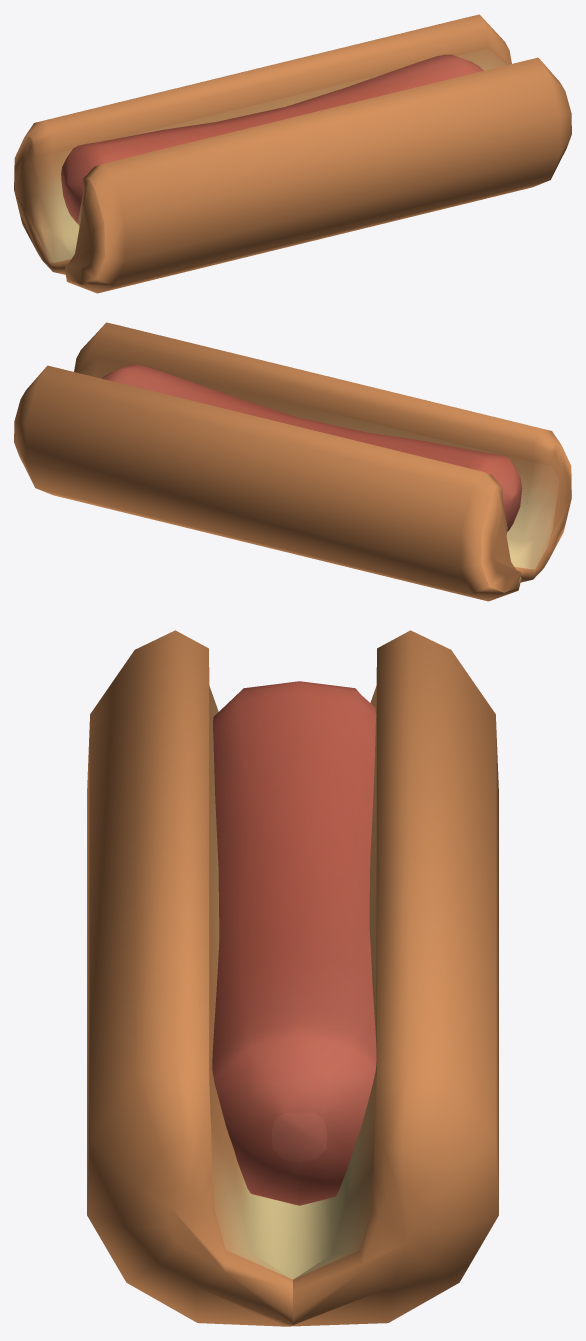
The model's file is hotdog 1.fbx.
3 views of the same model, one above another, from view 1: azimuth 30°, elevation 25°; view 2: azimuth 150°, elevation 25°; view 3: azimuth 270°, elevation 25° (orthographic). The views are drawn at different scales.
Visible parts, largest first — view 1: Cylinder; view 2: Cylinder; view 3: Cylinder.
Part boxes in pixels (x1,y1,x2,y2): Cylinder: (14,14,571,293); Cylinder: (14,322,571,601); Cylinder: (87,630,498,1326).
Size of the model in its own units: 24.04 by 6.36 by 8.75.
Materials: 2 (2 with a texture image).
